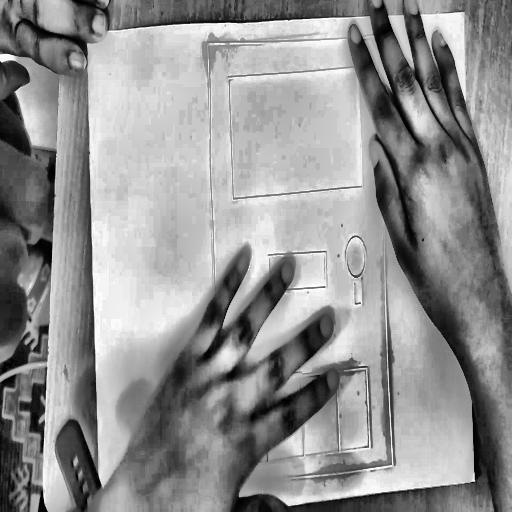bottom_right: (471, 474, 478, 486)
door: (203, 28, 399, 493)
top_left: (85, 28, 92, 39)
top_right: (462, 8, 468, 18)
